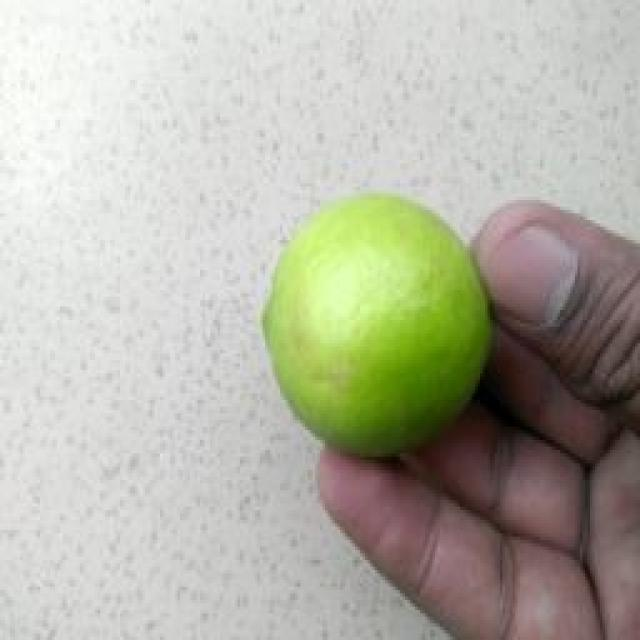lemon: (262, 193, 492, 456)
